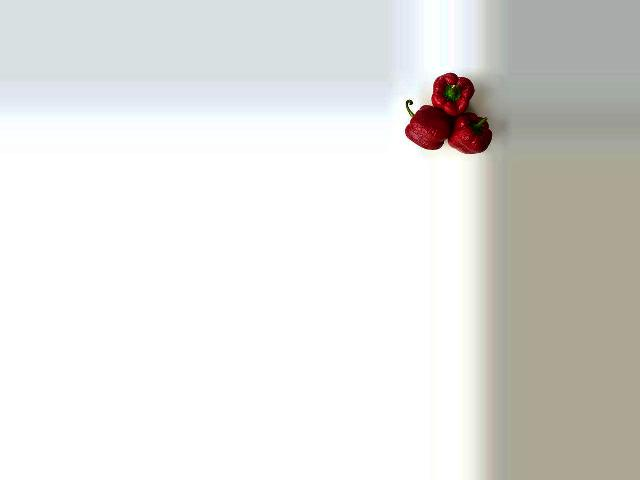bell_pepper: (394, 97, 447, 152)
